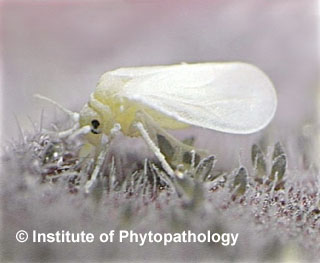whitefly: (33, 59, 278, 195)
